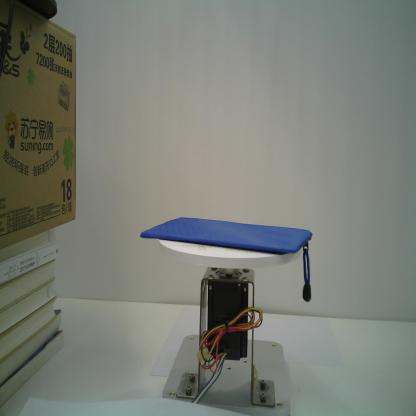Stationery: (138, 216, 314, 304)
